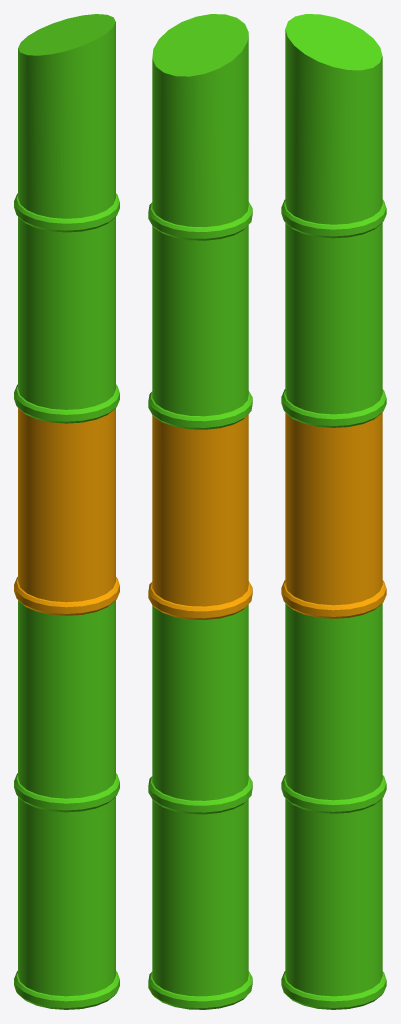
File: Bamboo_Middle_3.fbx
3 renders of one model, left to right at view 1: azimuth 90°, elevation 25°; view 2: azimuth 150°, elevation 25°; view 3: azimuth 270°, elevation 25°, orthographic.
Visible parts, largest first — view 1: Bamboo_Middle_3; view 2: Bamboo_Middle_3; view 3: Bamboo_Middle_3.
Part boxes in pixels (x1,y1,x2,y2): Bamboo_Middle_3: [14, 14, 119, 1009]; Bamboo_Middle_3: [148, 14, 252, 1009]; Bamboo_Middle_3: [281, 14, 386, 1009].
Bounding box in the file's own units: 0.2608 × 2.63 × 0.2608.
